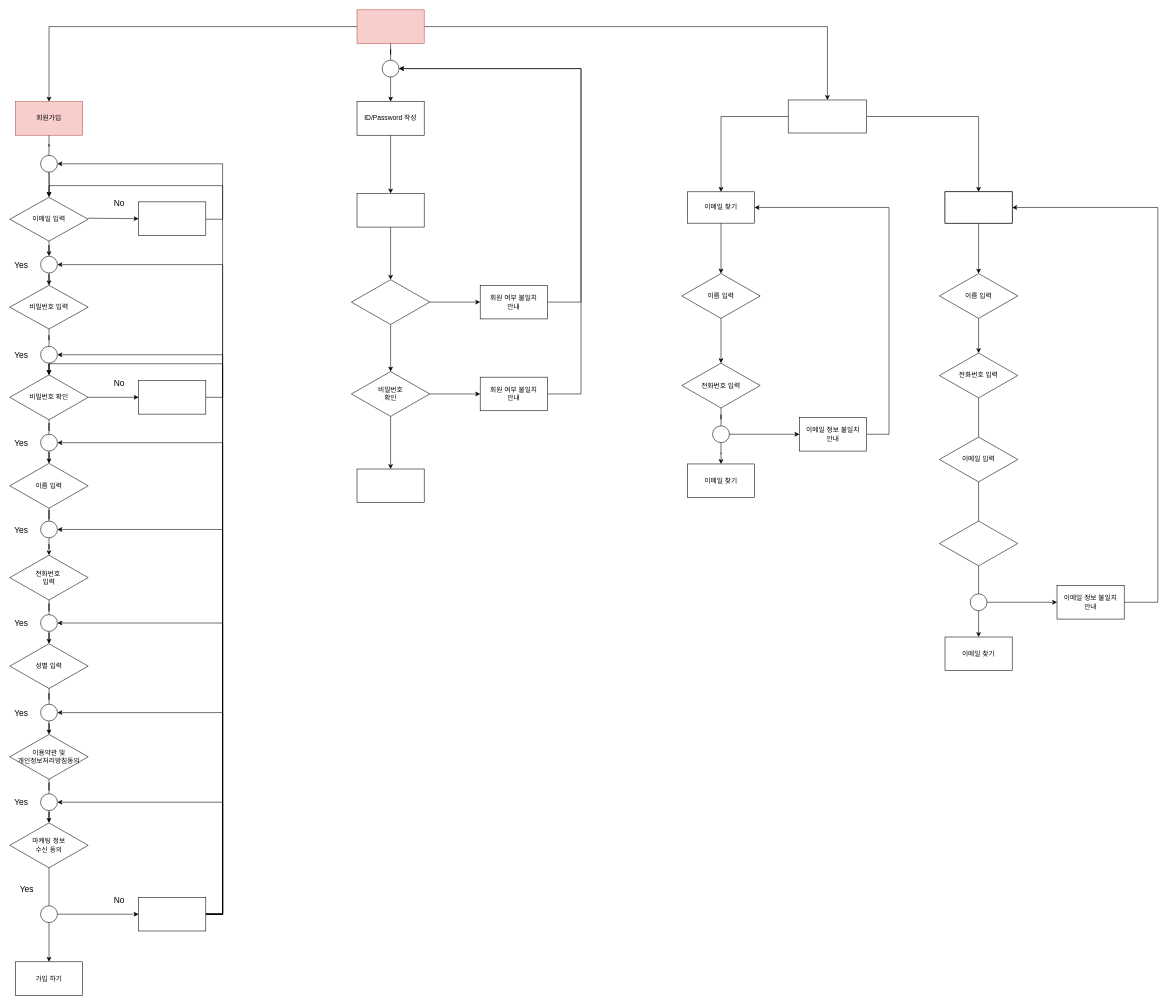
Some shapes in this 1172 by 1005 pixel diagram are drawn without their labels. Each missing label, with the centre of its shape:
가입 정보 불일치 및 공란 안내: point 172,914
로그인: point 390,26
로그인 시도: point 390,210
로그인 완료: point 390,485
비밀번호 찾기: point 978,207
비밀번호가 일치 하지 않습니다: point 172,397
이메일 중복 체크 사용 할 수 없는 이메일 입니다.: point 172,218
이메일/ 비밀번호 찾기: point 827,116
인증 요청: point 978,543
회원 여부 확인: point 390,302
